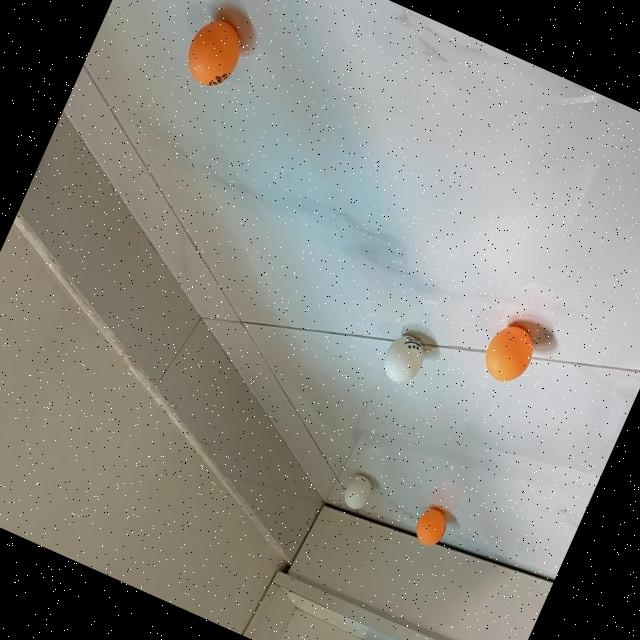ping-pong-ball: (176, 12, 250, 97), (477, 320, 539, 390), (376, 330, 429, 389), (410, 503, 452, 551), (339, 471, 376, 514)
